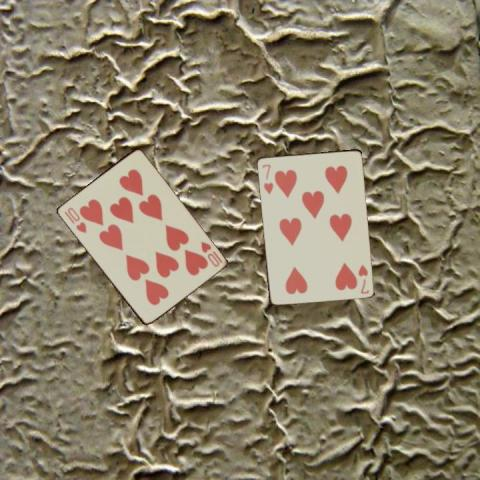10h: (61, 204, 88, 235), (197, 238, 224, 268)
7h: (259, 162, 275, 196), (355, 261, 370, 295)
